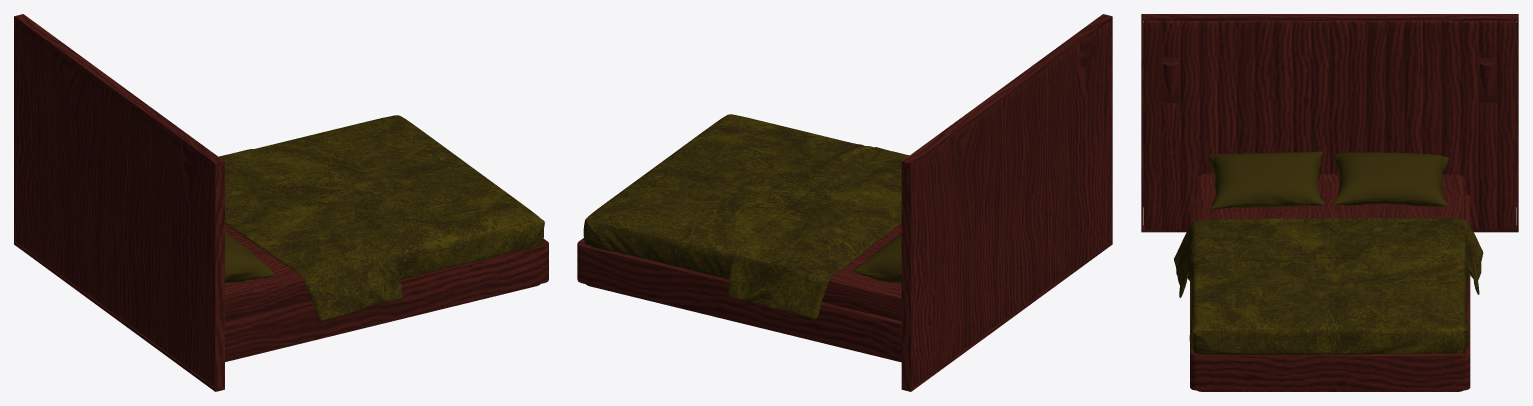
File: Project Name.gltf
The picture shows the model from 3 angles, left to right: view 1: azimuth 30°, elevation 25°; view 2: azimuth 150°, elevation 25°; view 3: azimuth 270°, elevation 25°; orthographic projection. The views are drawn at different scales.
Parts seen in each view (by area): view 1: Buffer Object (×2); view 2: Buffer Object (×2); view 3: Buffer Object (×2).
Boxes of the visible parts, x1,y1,x2,y2 form: Buffer Object (×2): (14, 14, 548, 391); Buffer Object (×2): (577, 14, 1112, 391); Buffer Object (×2): (1141, 14, 1518, 391).
Bounding box in the file's own units: 0.00817 × 0.00494 × 0.00787.
2 materials, 2 textured.
